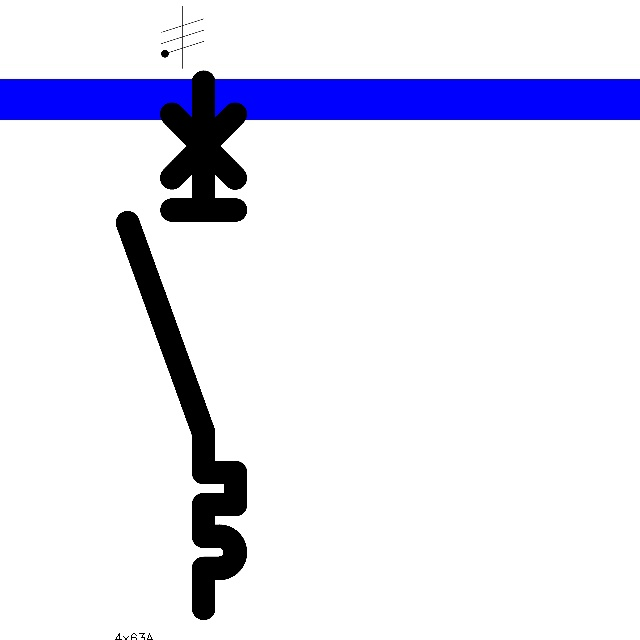interruptor_termomagnetico: (114, 68, 249, 621)
